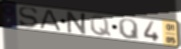4: (143, 20, 161, 43)
A: (37, 9, 63, 33)
N: (66, 10, 89, 36)
Q: (89, 15, 113, 38), (118, 18, 141, 41)
S: (18, 7, 40, 29)
